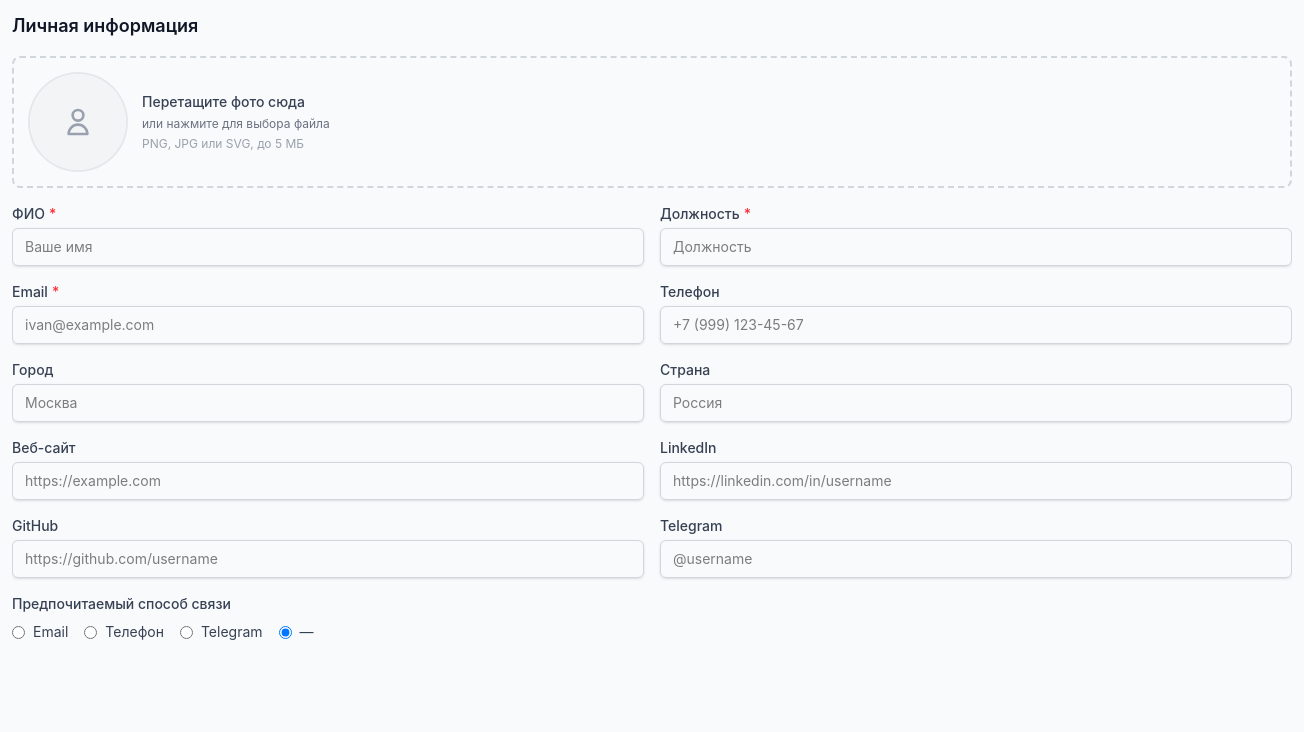
Test case: PersonalInfoForm › should show error for invalid phone
Type "123" into the field with placeholder "+7 (999) 123-45-67" at (976,325), box [660,306,1292,344]
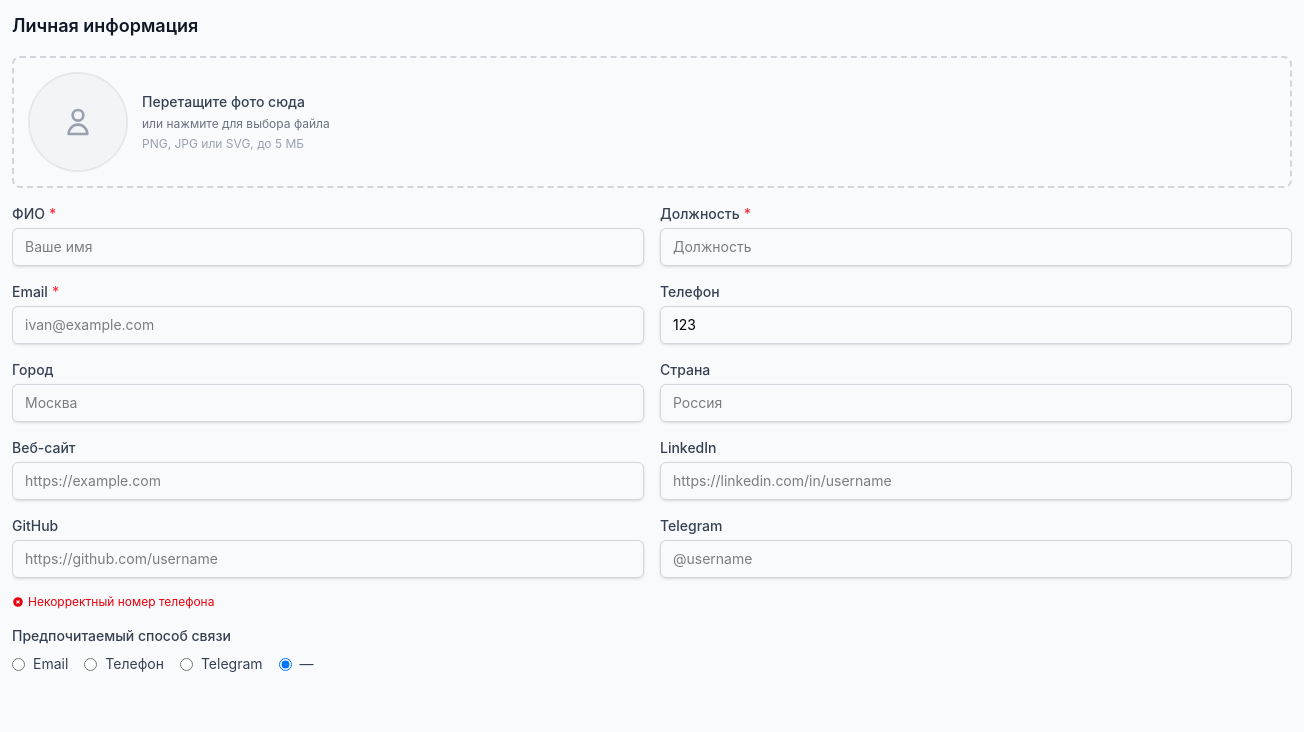
Now the text "Некорректный номер телефона" is shown, box [12,594,214,609]
